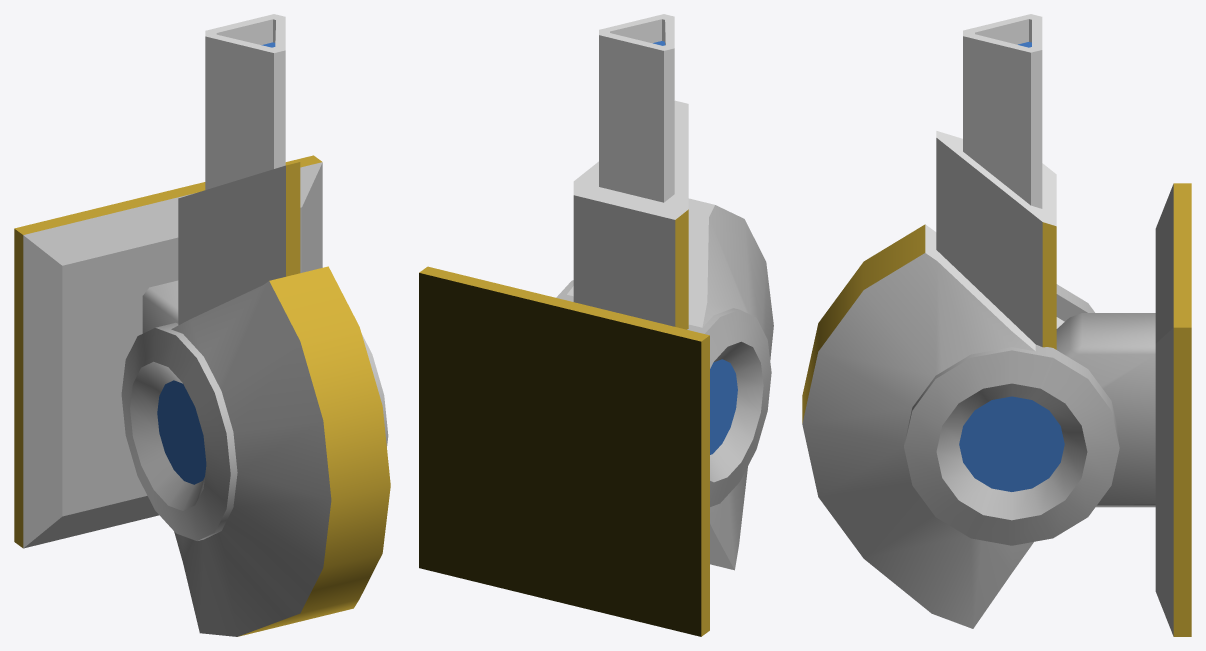
File: Laser1-static.fbx
The picture shows the model from 3 angles, left to right: view 1: azimuth 30°, elevation 25°; view 2: azimuth 150°, elevation 25°; view 3: azimuth 270°, elevation 25°; orthographic projection. The views are drawn at different scales.
Parts seen in each view (by area): view 1: Cylinder.035; view 2: Cylinder.035; view 3: Cylinder.035.
Part boxes in pixels (x1,y1,x2,y2): Cylinder.035: (14,14,390,636); Cylinder.035: (419,14,773,636); Cylinder.035: (802,14,1191,636).
Size of the model in its own units: 1.9 by 3.44 by 2.17.
